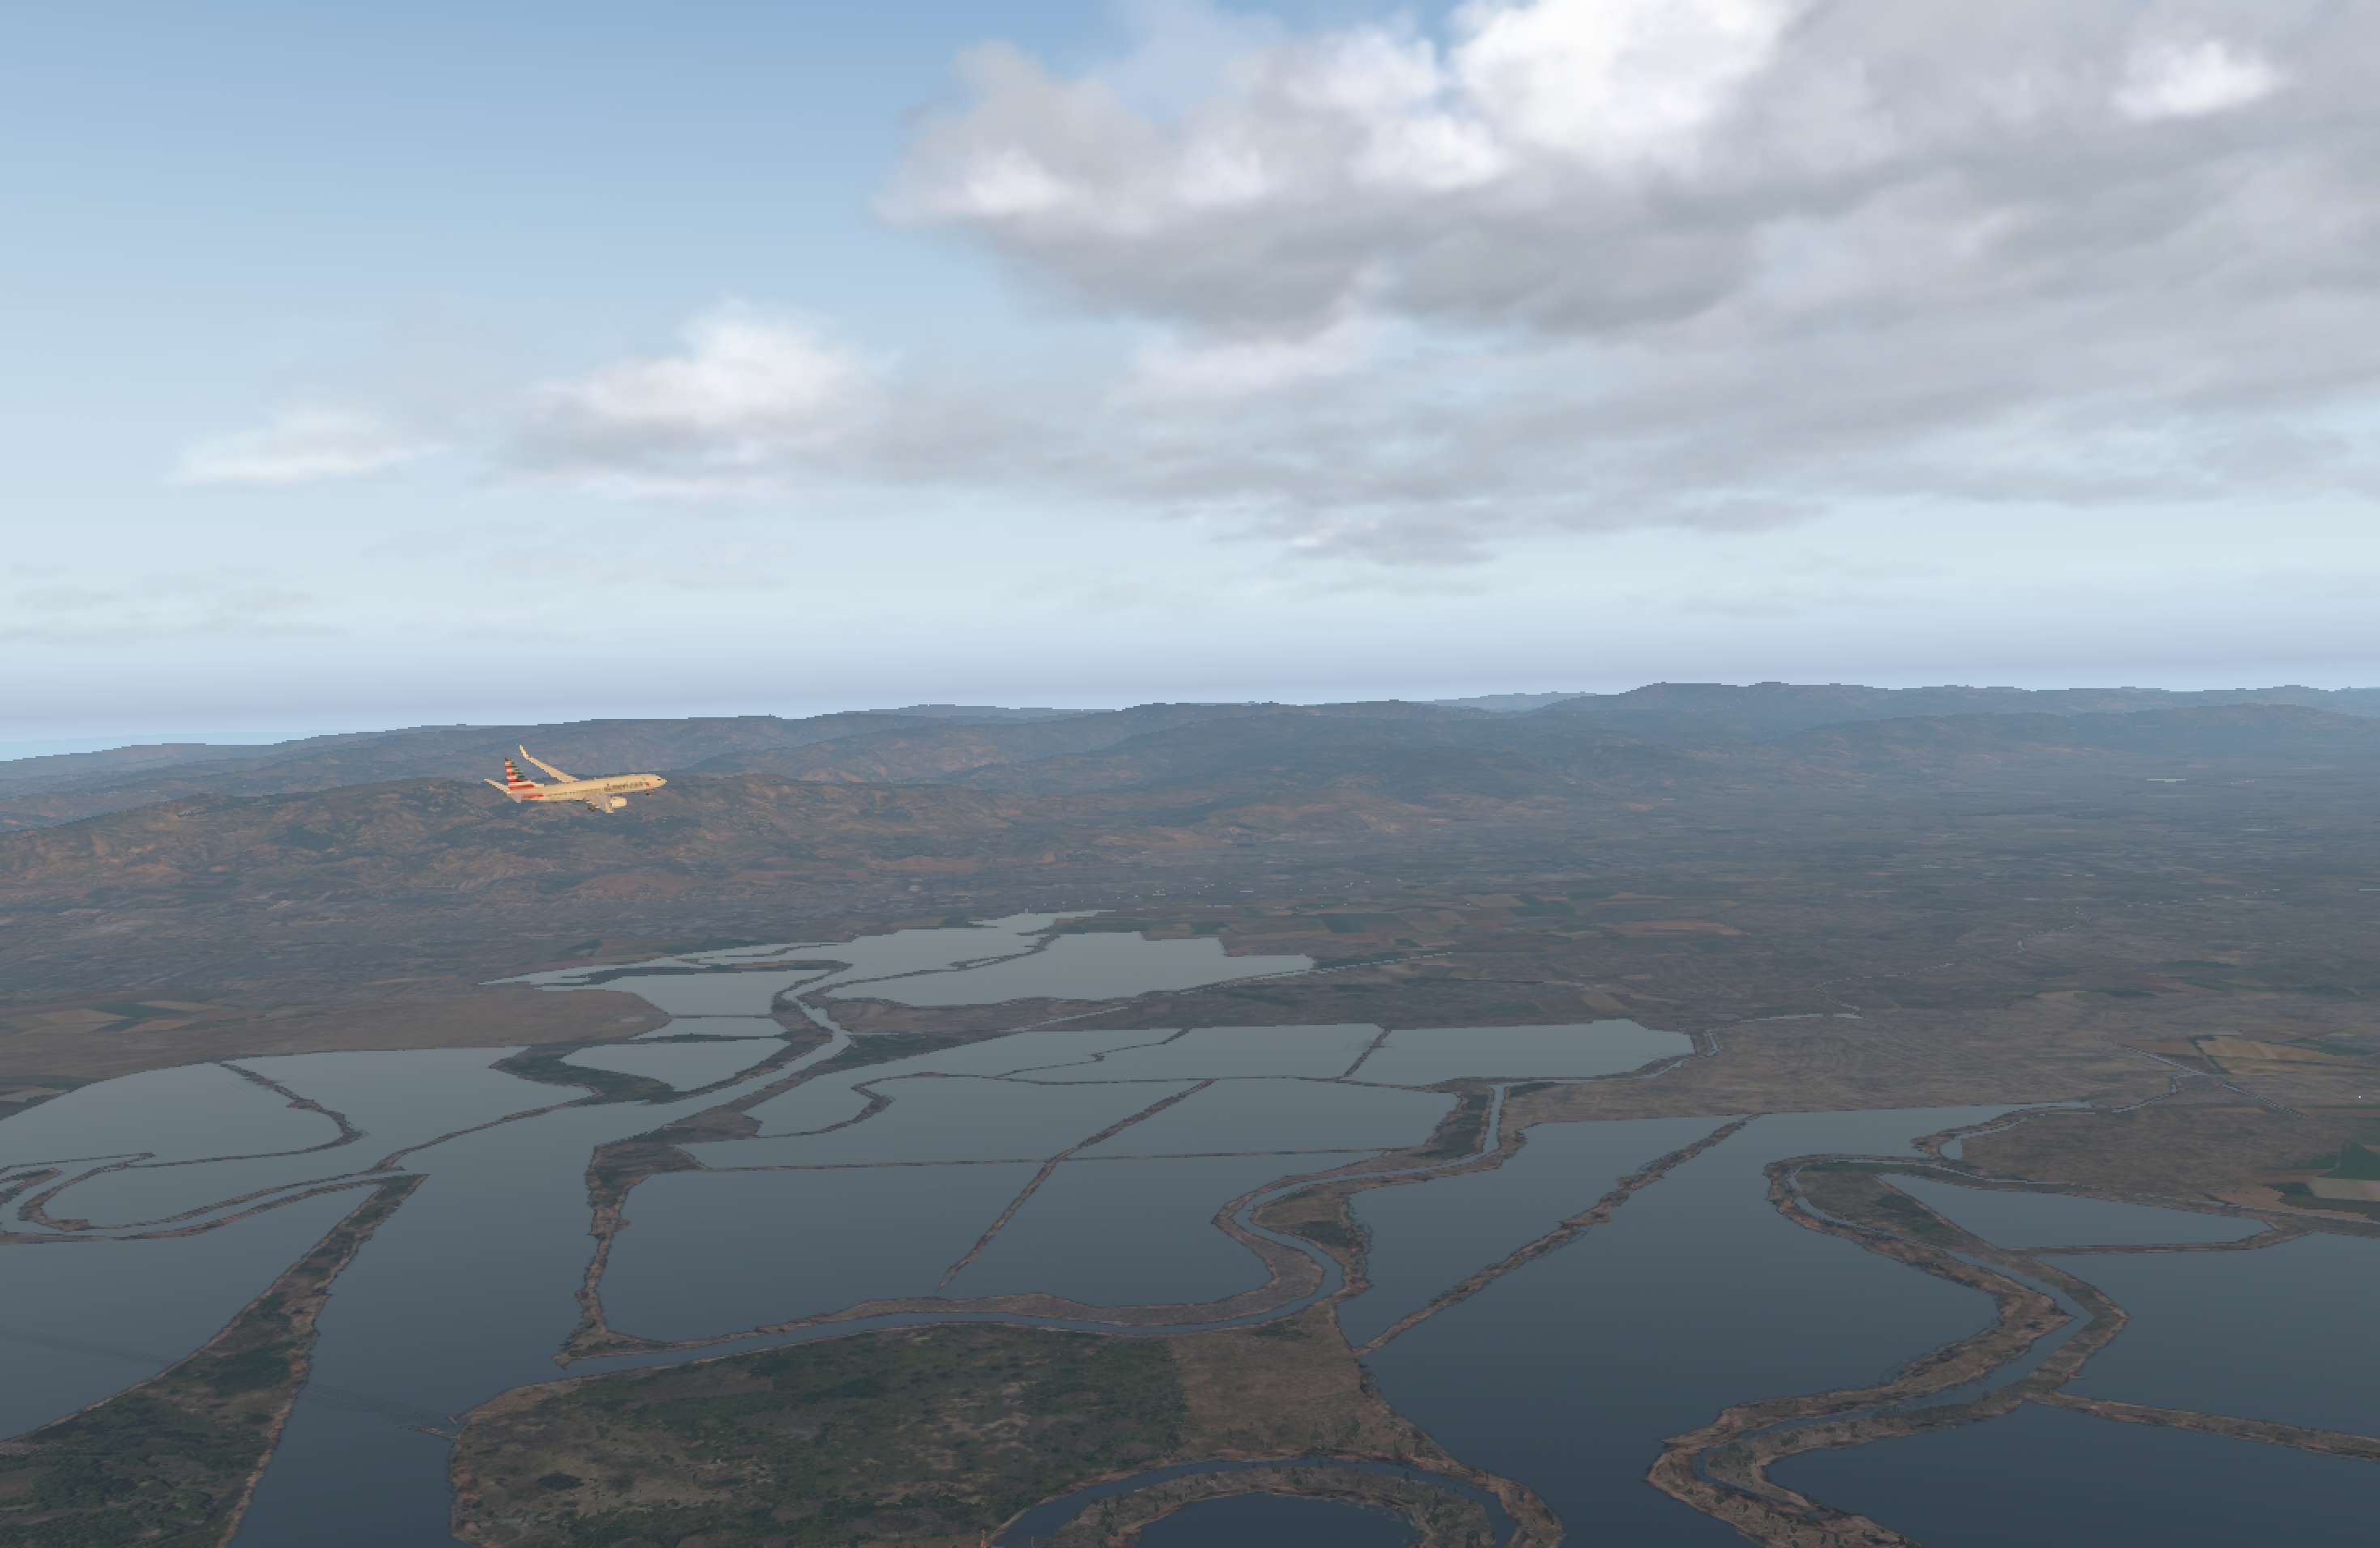aircraft: (503, 758, 680, 824)
